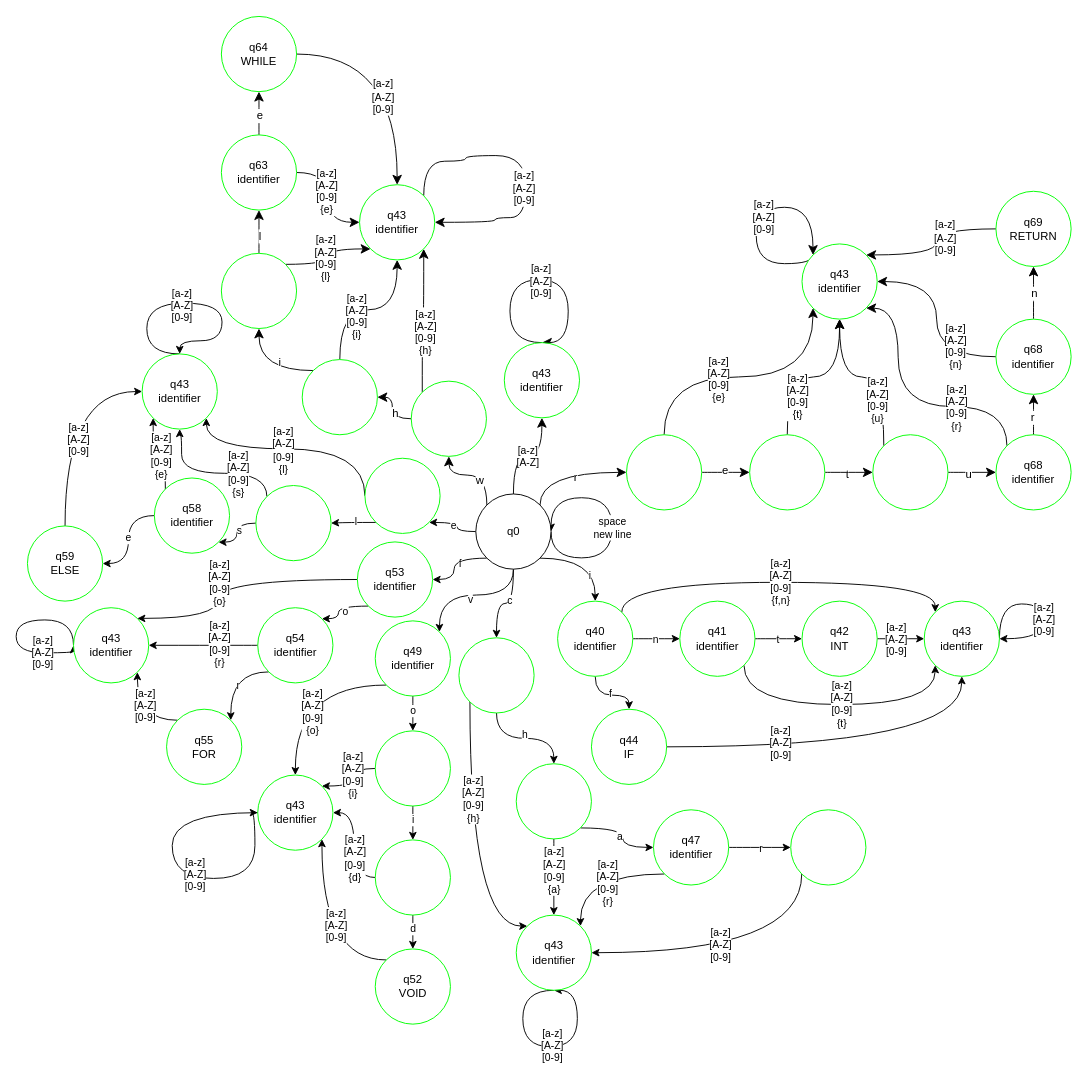
Some shapes in this 1089 by 1080 pixel diagram are drawn without their labels. Each missing label, with the box of its shape:
q45 identifier: (458, 637, 534, 713)
q46 identifier: (515, 763, 591, 839)
q48 CHAR: (790, 809, 866, 885)
q50 identifier: (374, 730, 450, 806)
q51 identifier: (374, 839, 450, 915)
q56 identifier: (364, 457, 440, 533)
q57 identifier: (255, 485, 331, 561)
q60 identifier: (410, 380, 486, 456)
q61 identifier: (301, 359, 377, 435)
q62 identifier: (220, 252, 297, 329)
q65 identifier: (626, 434, 702, 510)
q66 identifier: (749, 434, 825, 510)
q67 identifier: (872, 434, 948, 510)
